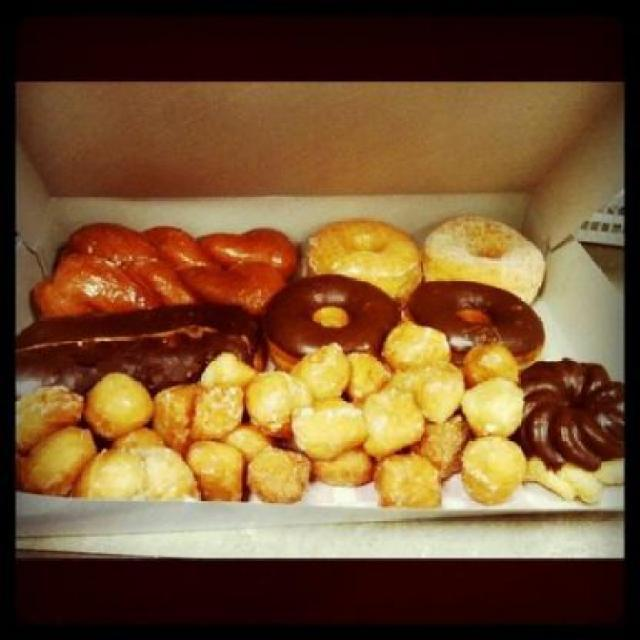Donuts: (260, 209, 558, 362)
